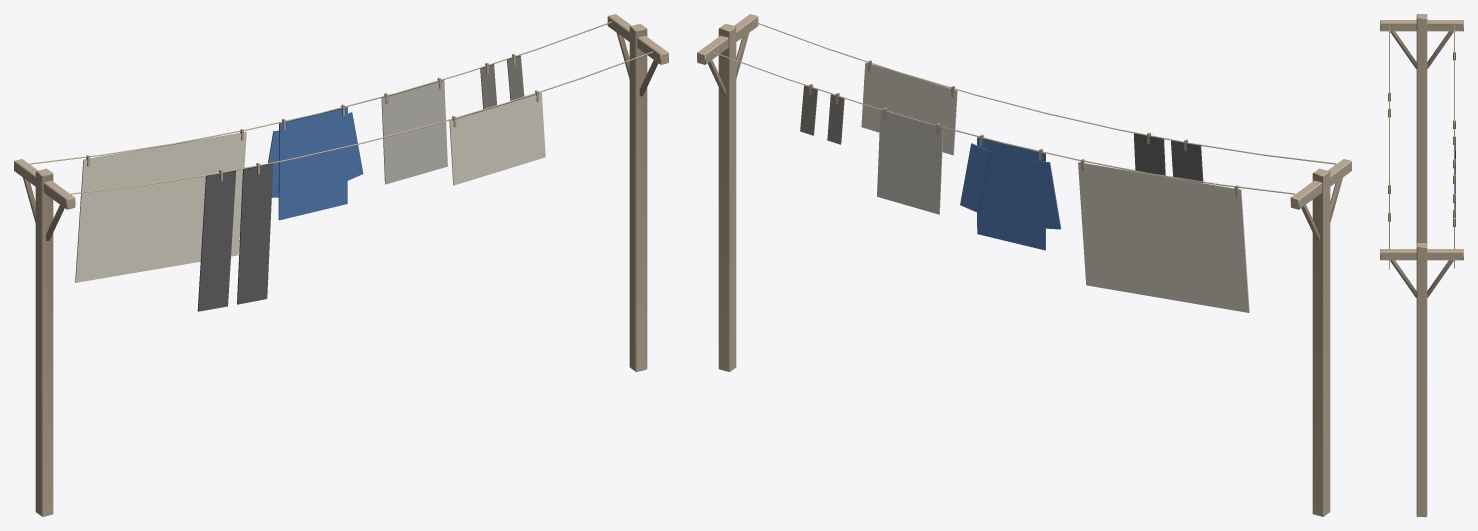
File: clothes_line.glb
3 views of the same model, side by side, from view 1: azimuth 30°, elevation 25°; view 2: azimuth 150°, elevation 25°; view 3: azimuth 270°, elevation 25° (orthographic). The views are drawn at different scales.
Visible parts, largest first — view 1: static; view 2: static; view 3: static.
Boxes of the visible parts, x1,y1,x2,y2 form: static: (14, 14, 668, 516); static: (697, 14, 1351, 516); static: (1380, 14, 1463, 516).
Size of the model in its own units: 4.08 by 2.2 by 0.62.
